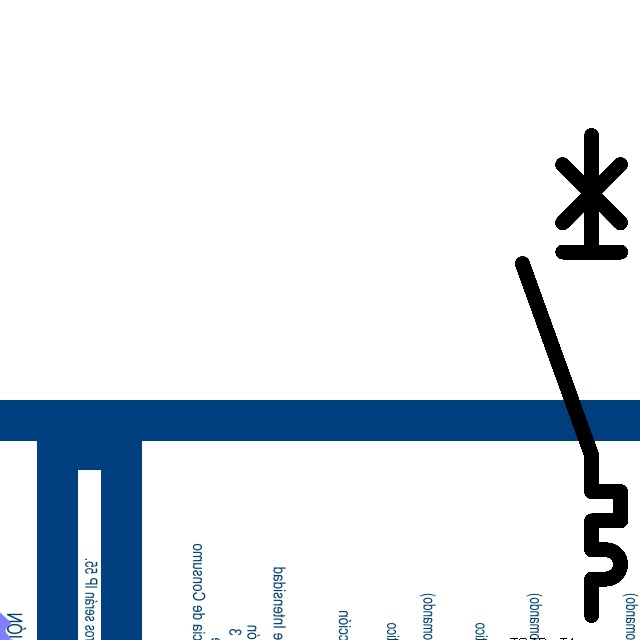interruptor_termomagnetico: (510, 123, 633, 628)
